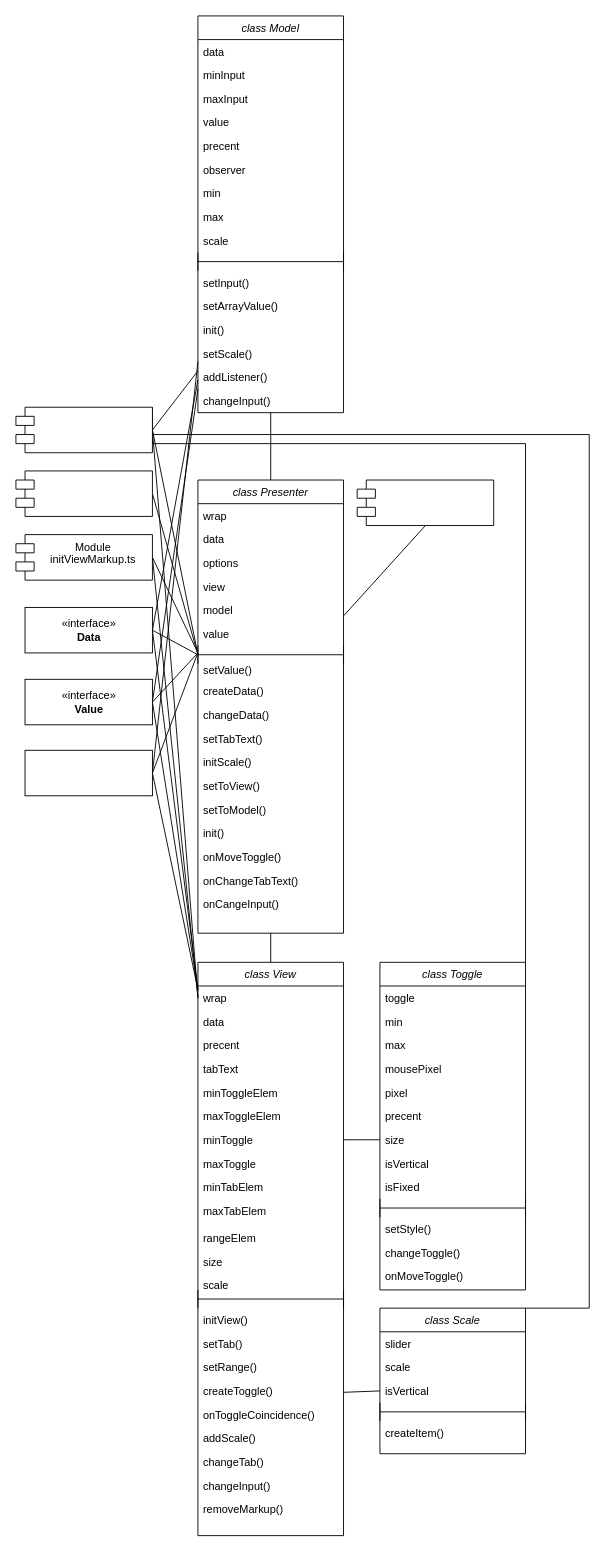
Image size: 606x1552. Some labels were removed from this diagram. The shapes that lost their labels are listed below. From the top down, each one's centre as x and y in pixels, then its label:
At (x=83, y=429): "Module Function.ts".
At (x=83, y=493): "Module Data.ts".
At (x=425, y=502): "Module Index.ts".
At (x=88, y=772): "«interface» TabText".
